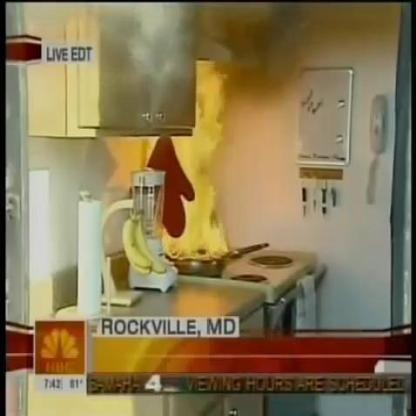fire: (145, 60, 244, 257)
